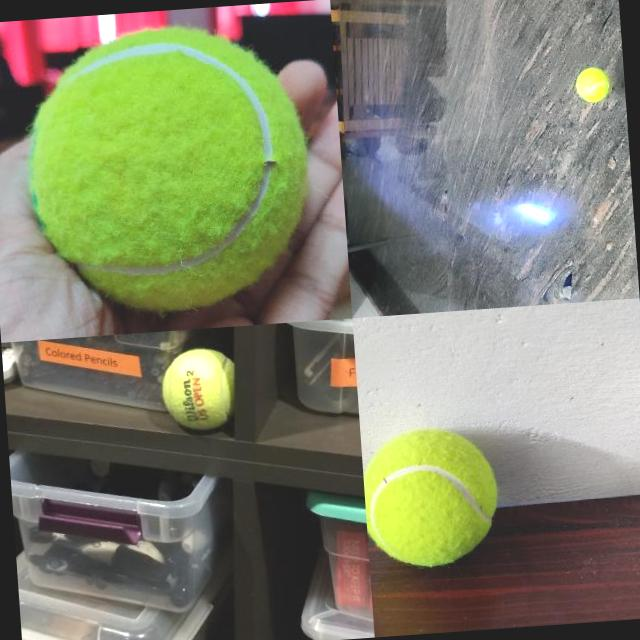tennis-ball: (18, 18, 318, 322), (360, 423, 502, 571), (158, 344, 234, 432), (574, 66, 612, 104)
